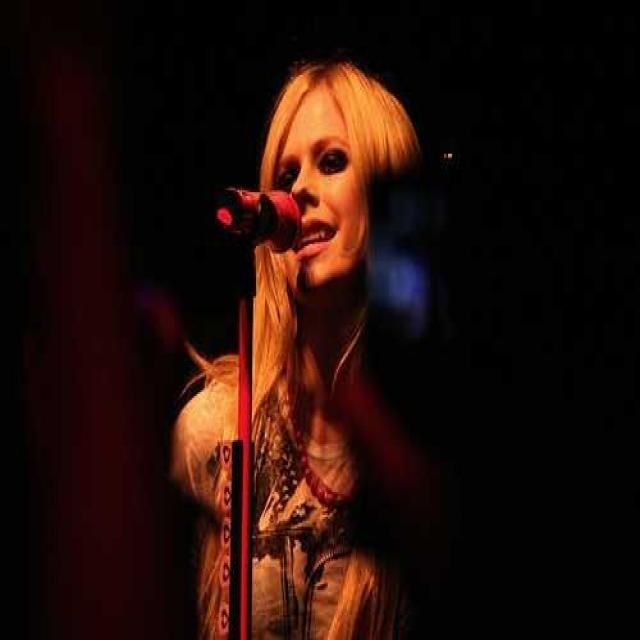microphone: (217, 186, 302, 248)
